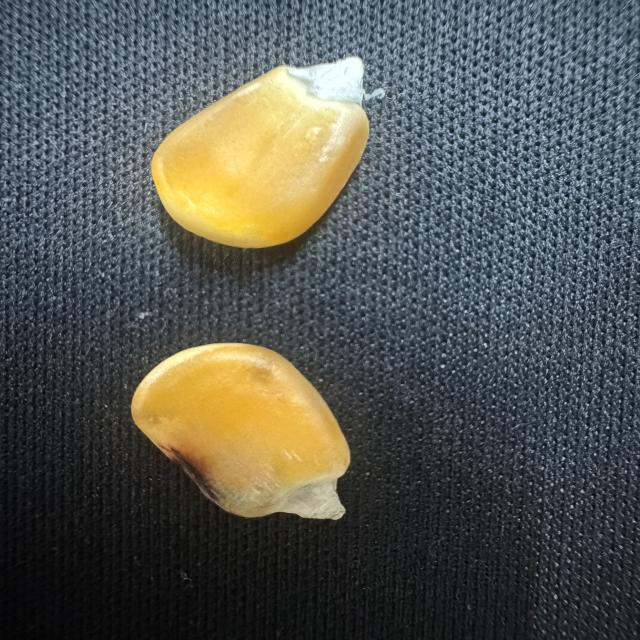Bad-Seed: (124, 336, 352, 527)
Good-Seed: (146, 48, 377, 252)
